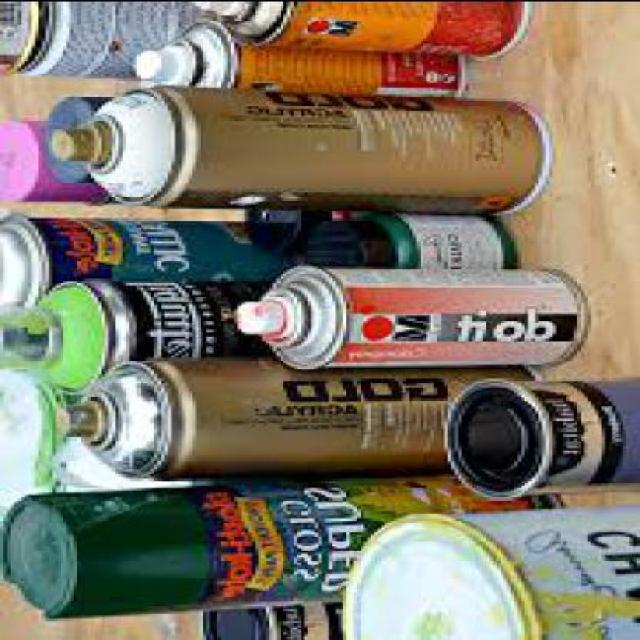METAL: (49, 81, 549, 214), (60, 354, 542, 475), (179, 472, 566, 603), (231, 261, 591, 365), (0, 274, 294, 392), (0, 212, 305, 305), (448, 507, 637, 638), (129, 17, 462, 91), (440, 376, 637, 496), (192, 1, 537, 58), (0, 1, 220, 76), (196, 598, 339, 638)
PLASTIC: (0, 481, 203, 617), (335, 502, 528, 638), (304, 208, 521, 263), (242, 204, 349, 250)
